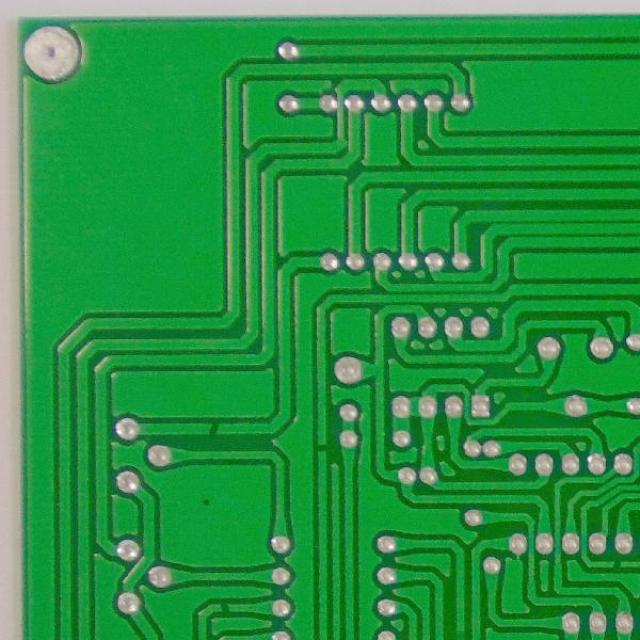Open_Circuit: (198, 415, 230, 442), (312, 435, 333, 461), (213, 597, 237, 618), (607, 554, 627, 572)
